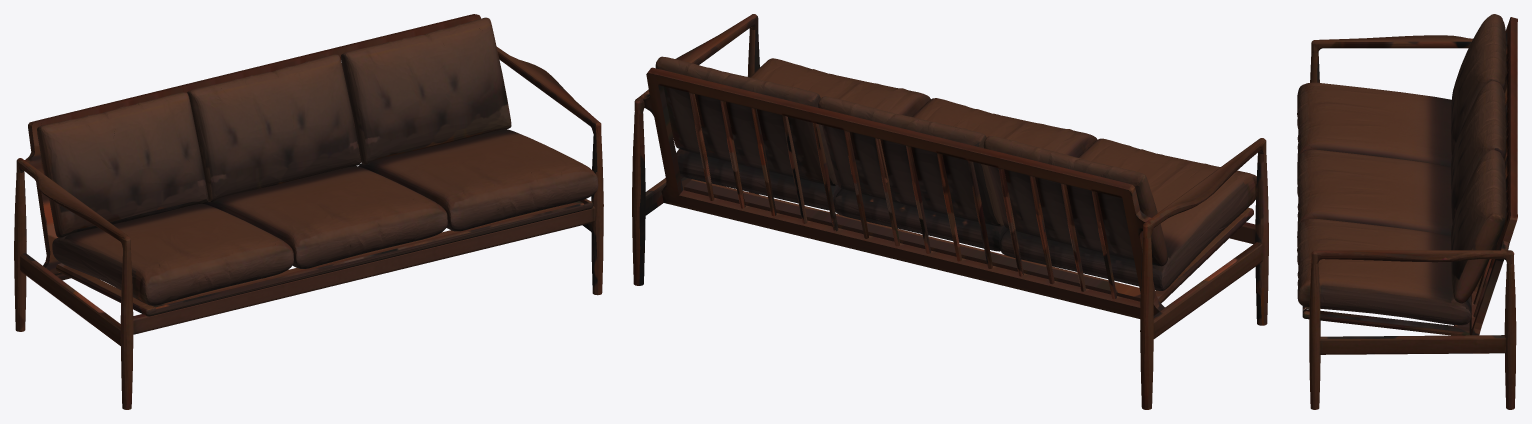
File: edited_mesh.glb
3 views of the same model, side by side, from view 1: azimuth 30°, elevation 25°; view 2: azimuth 150°, elevation 25°; view 3: azimuth 270°, elevation 25° (orthographic). The views are drawn at different scales.
Visible parts, largest first — view 1: solid_001_wire; view 2: solid_001_wire; view 3: solid_001_wire.
Part boxes in pixels (box(x1,y1,x2,y2)): solid_001_wire: box(14, 14, 603, 409); solid_001_wire: box(632, 14, 1268, 409); solid_001_wire: box(1297, 14, 1517, 409).
Size of the model in its own units: 2 by 0.7861 by 0.8303.
Materials: 1 (1 with a texture image).
